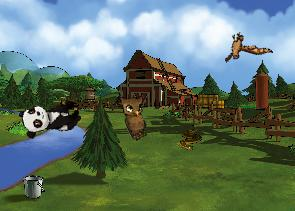eagle: (215, 21, 273, 75)
owl: (114, 88, 159, 142)
panda: (18, 95, 83, 140)
